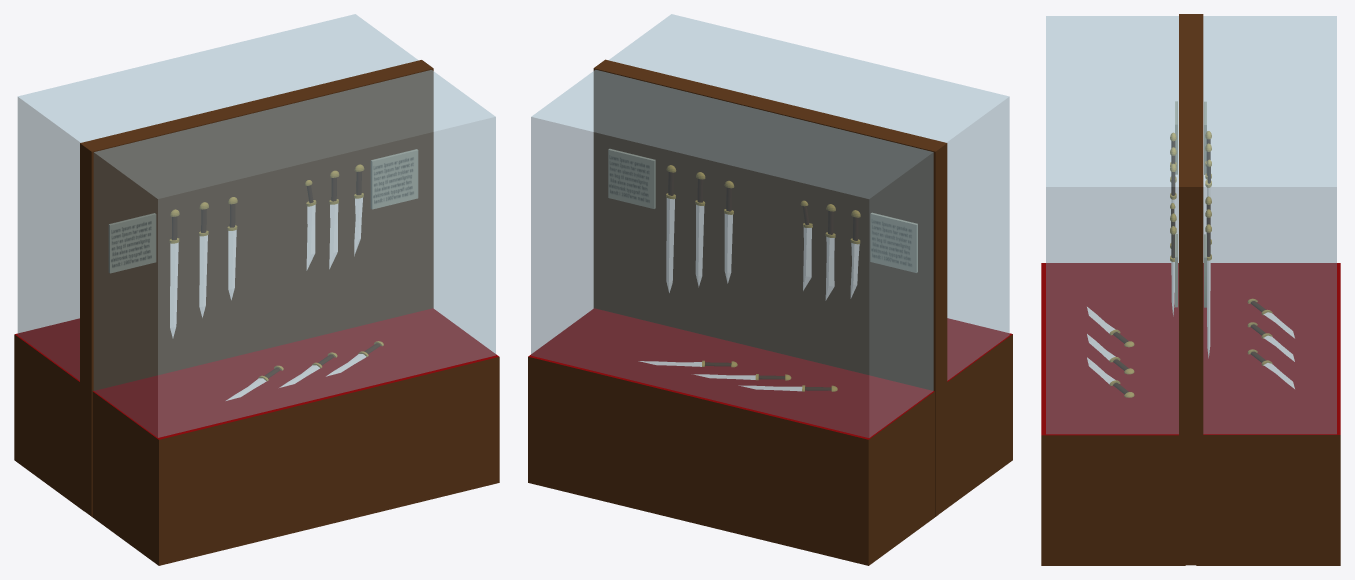
Rendered from montre_svaerd2.gltf.
The picture shows the model from 3 angles, left to right: view 1: azimuth 30°, elevation 25°; view 2: azimuth 150°, elevation 25°; view 3: azimuth 270°, elevation 25°; orthographic projection. The views are drawn at different scales.
Visible parts, largest first — view 1: glass.001, Cube.001, Cube.006, glass, Cube.002, Cube.004, Cube.005, Sword.017, Sword.016; view 2: glass, Cube.001, Cube.002, glass.001, Cube.006, Cube.003, Cube, Sword; view 3: glass, glass.001, Cube.006, Cube.002, Cube.001.
Part boxes in pixels (<box>): glass.001: <box>93,70,495,437</box>; Cube.001: <box>80,60,433,516</box>; Cube.006: <box>92,308,499,565</box>; glass: <box>17,14,418,380</box>; Cube.002: <box>14,318,80,508</box>; Cube.004: <box>370,149,418,209</box>; Cube.005: <box>108,213,156,273</box>; Sword.017: <box>170,242,178,337</box>; Sword.016: <box>199,235,207,317</box>; glass: <box>531,70,933,437</box>; Cube.001: <box>593,59,947,516</box>; Cube.002: <box>528,308,936,565</box>; glass.001: <box>609,14,1009,380</box>; Cube.006: <box>947,318,1012,507</box>; Cube.003: <box>870,212,917,272</box>; Cube: <box>608,149,655,208</box>; Sword: <box>666,198,674,292</box>; glass: <box>1203,16,1336,434</box>; glass.001: <box>1046,16,1178,434</box>; Cube.006: <box>1041,263,1185,565</box>; Cube.002: <box>1196,263,1340,565</box>; Cube.001: <box>1179,14,1203,565</box>.
Size of the model in its own units: 3.79 by 3.87 by 2.77.
Materials: 7 (1 with a texture image).
